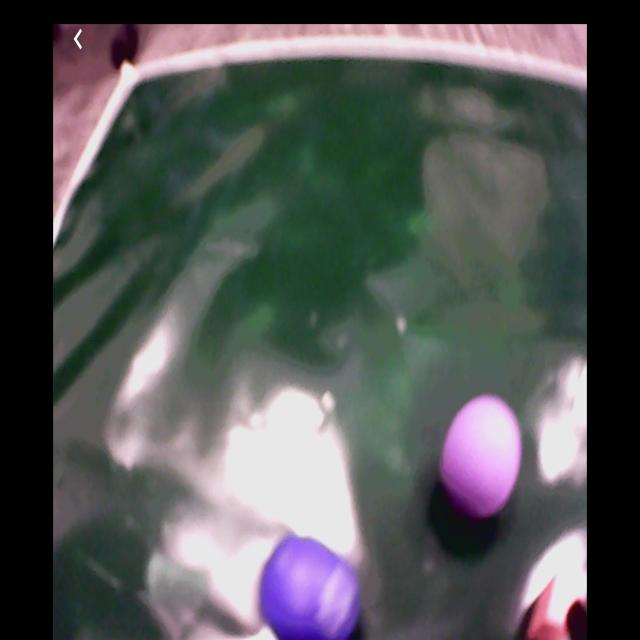ball: (262, 535, 362, 640), (441, 395, 524, 519)
